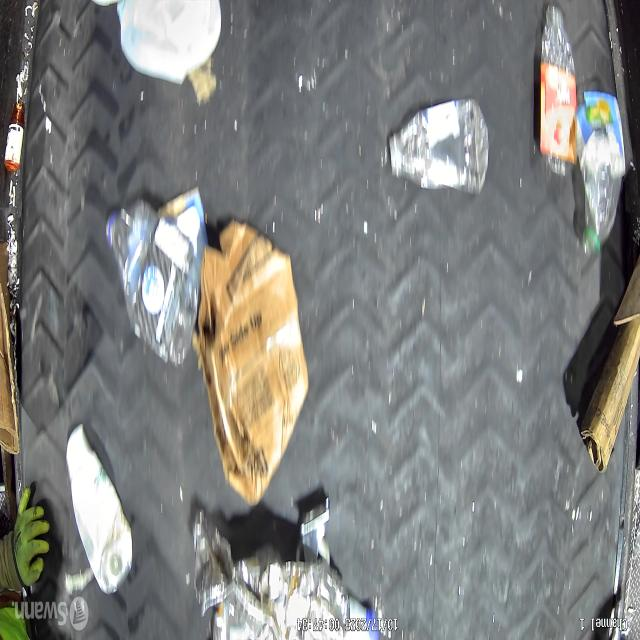milk_jug: (115, 0, 224, 83)
plastic_bottle: (103, 205, 200, 367), (386, 94, 489, 193), (577, 90, 626, 254), (540, 6, 578, 179)
